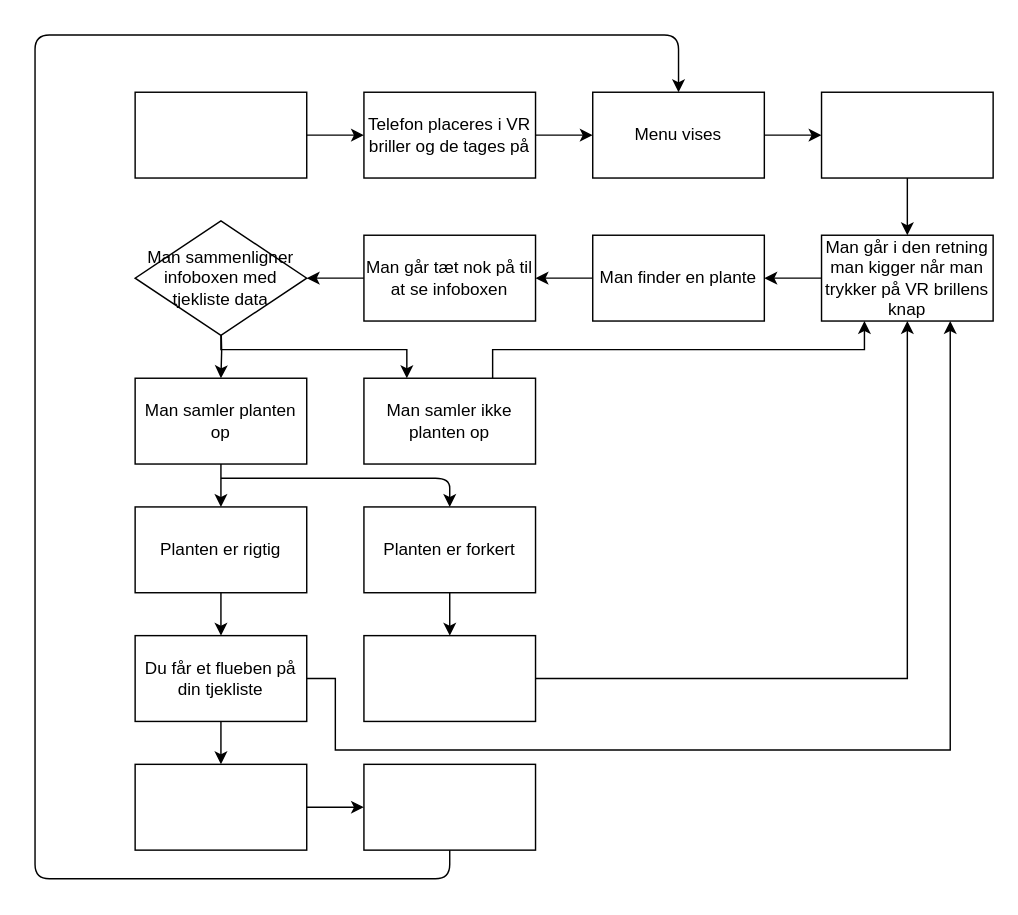
This 1018x915 diagram has some shape labels left out. Here are the shapes that lost their labels. From the top down, the centre of each, then its label:
[220,134]: Spillet startes
[906,134]: Der trykkes start
[449,677]: Du får ikke et flueben på din tjekliste
[220,806]: Du får alle planterne rigtigt
[449,806]: Vinder
